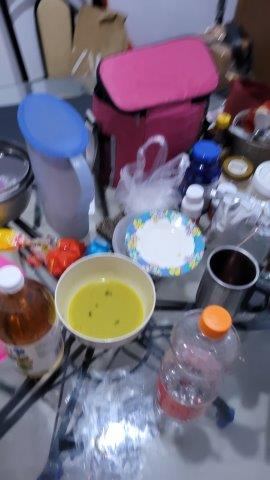plastik: (110, 136, 188, 219)
